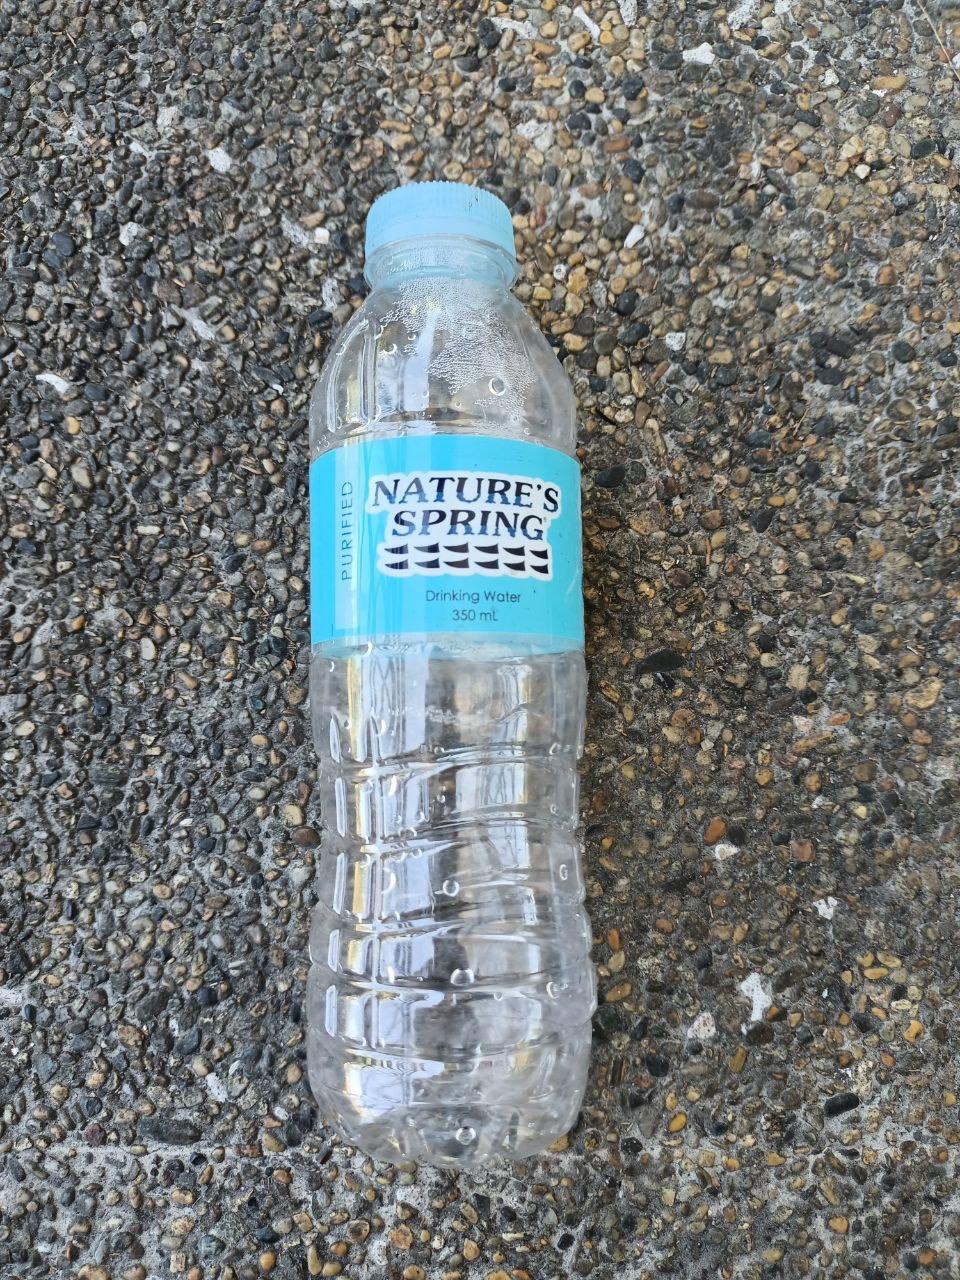plastic: (237, 144, 651, 1209)
